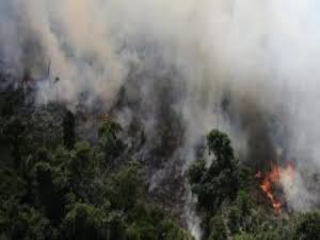fire: (257, 163, 296, 209)
smoke: (5, 6, 166, 117), (178, 48, 244, 234)
